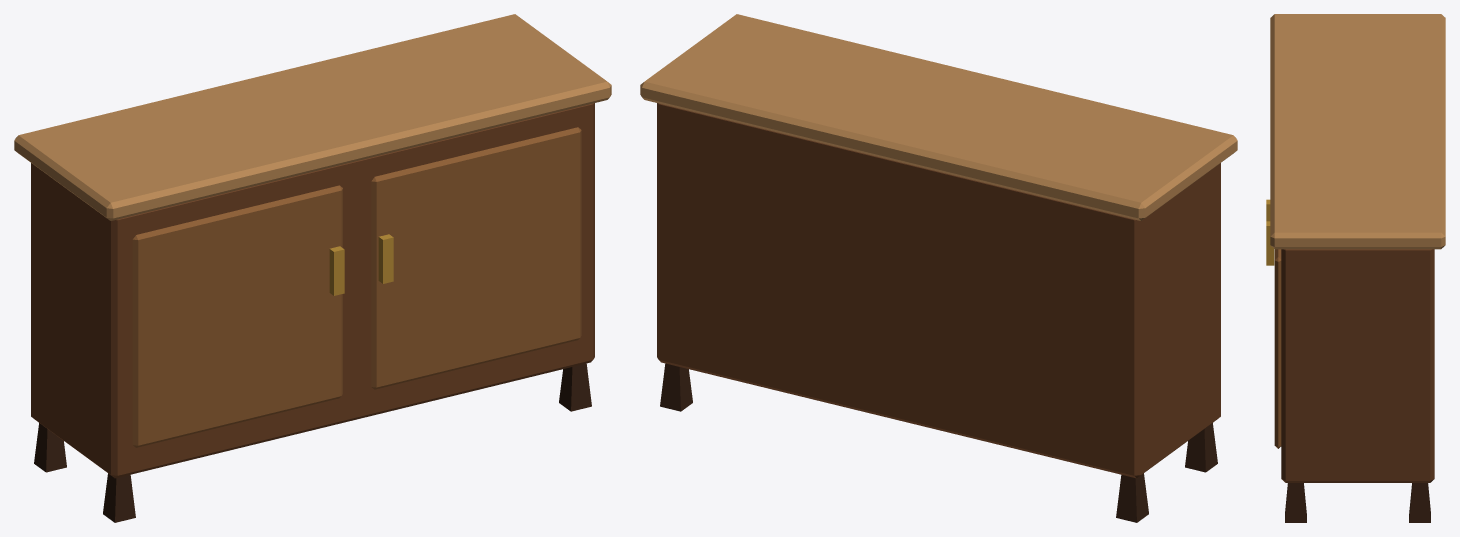
File: sideboard.glb
3 views of the same model, side by side, from view 1: azimuth 30°, elevation 25°; view 2: azimuth 150°, elevation 25°; view 3: azimuth 270°, elevation 25° (orthographic). The views are drawn at different scales.
Visible parts, largest first — view 1: sideboard; view 2: sideboard; view 3: sideboard.
Part boxes in pixels (box(x1,y1,x2,y2)): sideboard: box(14, 14, 611, 522); sideboard: box(640, 14, 1237, 522); sideboard: box(1266, 14, 1445, 522).
Bounding box in the file's own units: 1.44 × 0.89 × 0.491.
